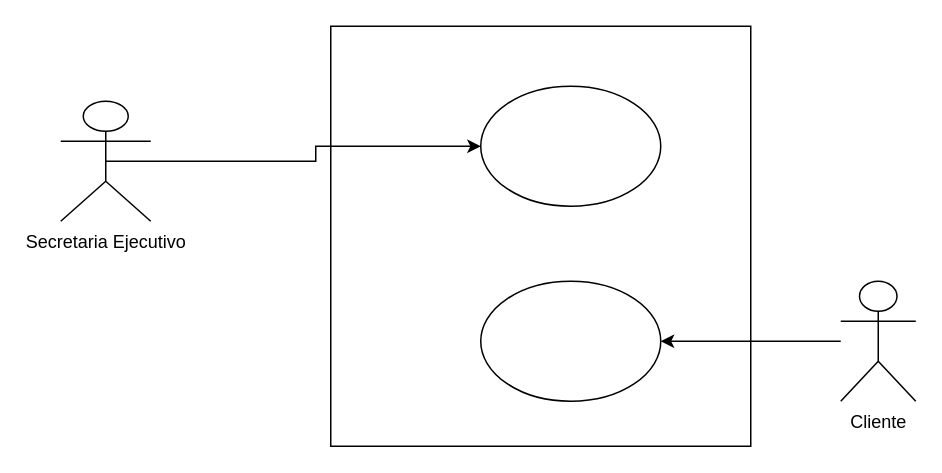
Image size: 942x473. Some labels were removed from this diagram. The shapes that lost their labels are listed below. From the top down, each one's centre as x and y in pixels, then its label:
At point 570,145: "ingresar cliente".
At point 570,340: "Depositar".
